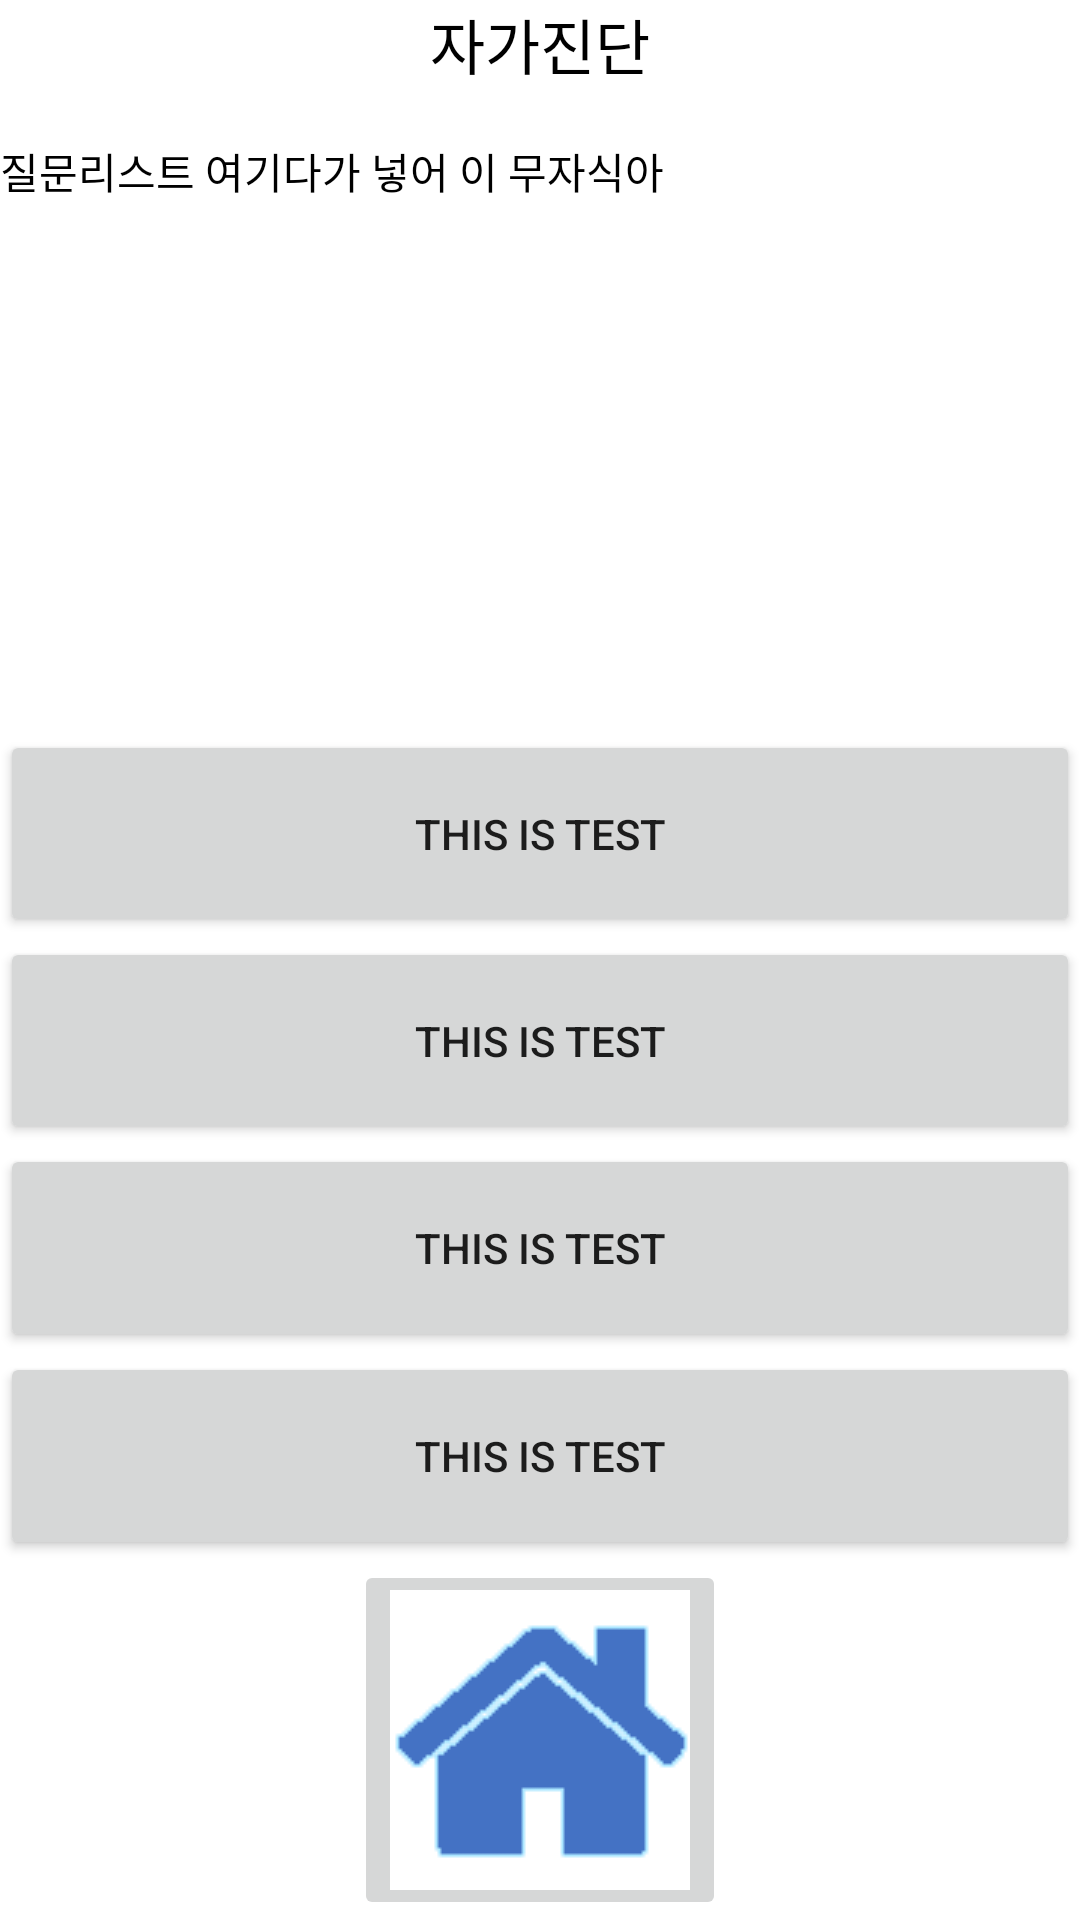

Icons on this 1080*1920 Android screen, each with its box as (x1, y1, x2, y2):
home: (366, 1578, 714, 1902)
